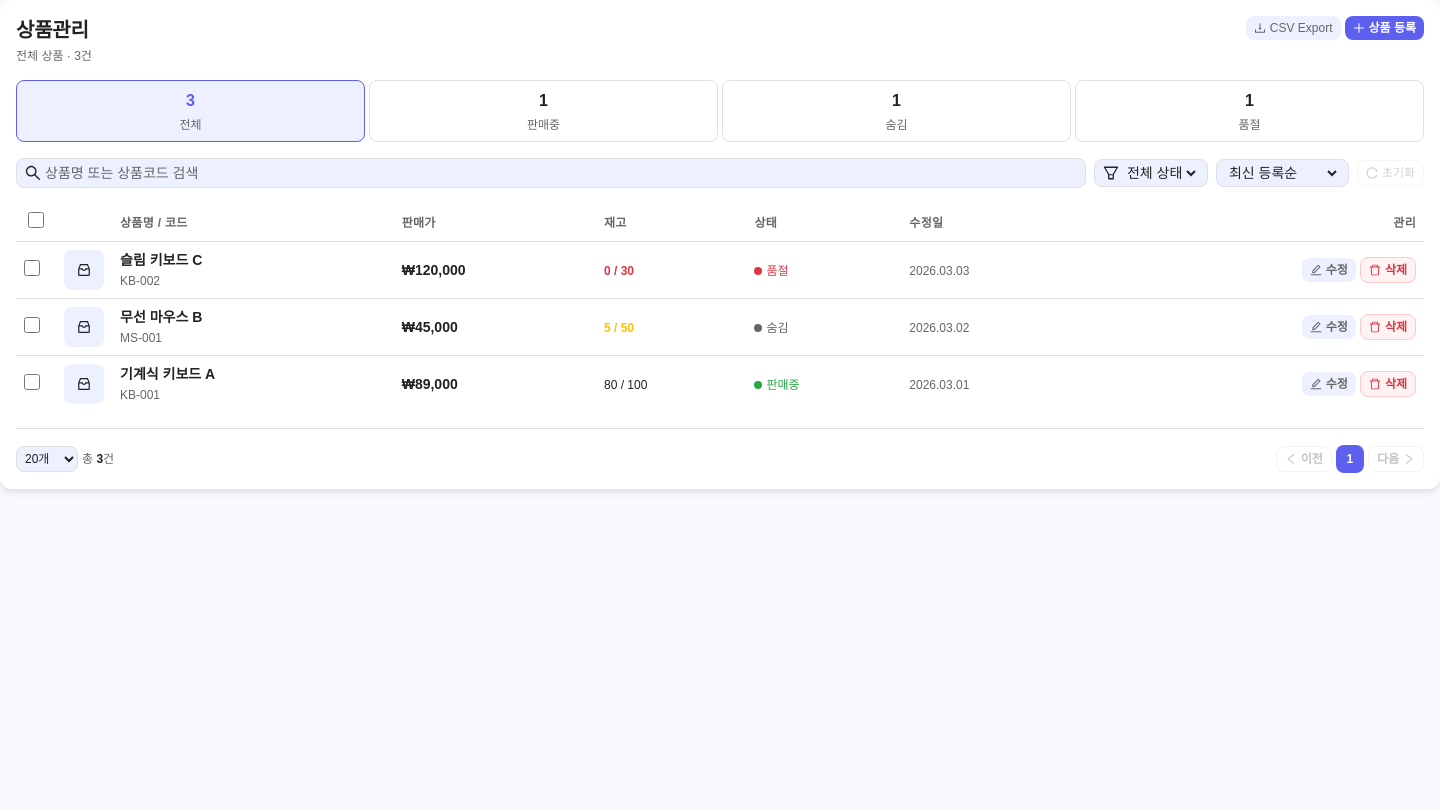
Test: 일괄 상태 변경 › 확인 모달에서 취소 클릭 시 모달이 닫힌다
Click the checkbox named "현재 페이지 전체 선택": click(36, 220) [28,212,44,228]
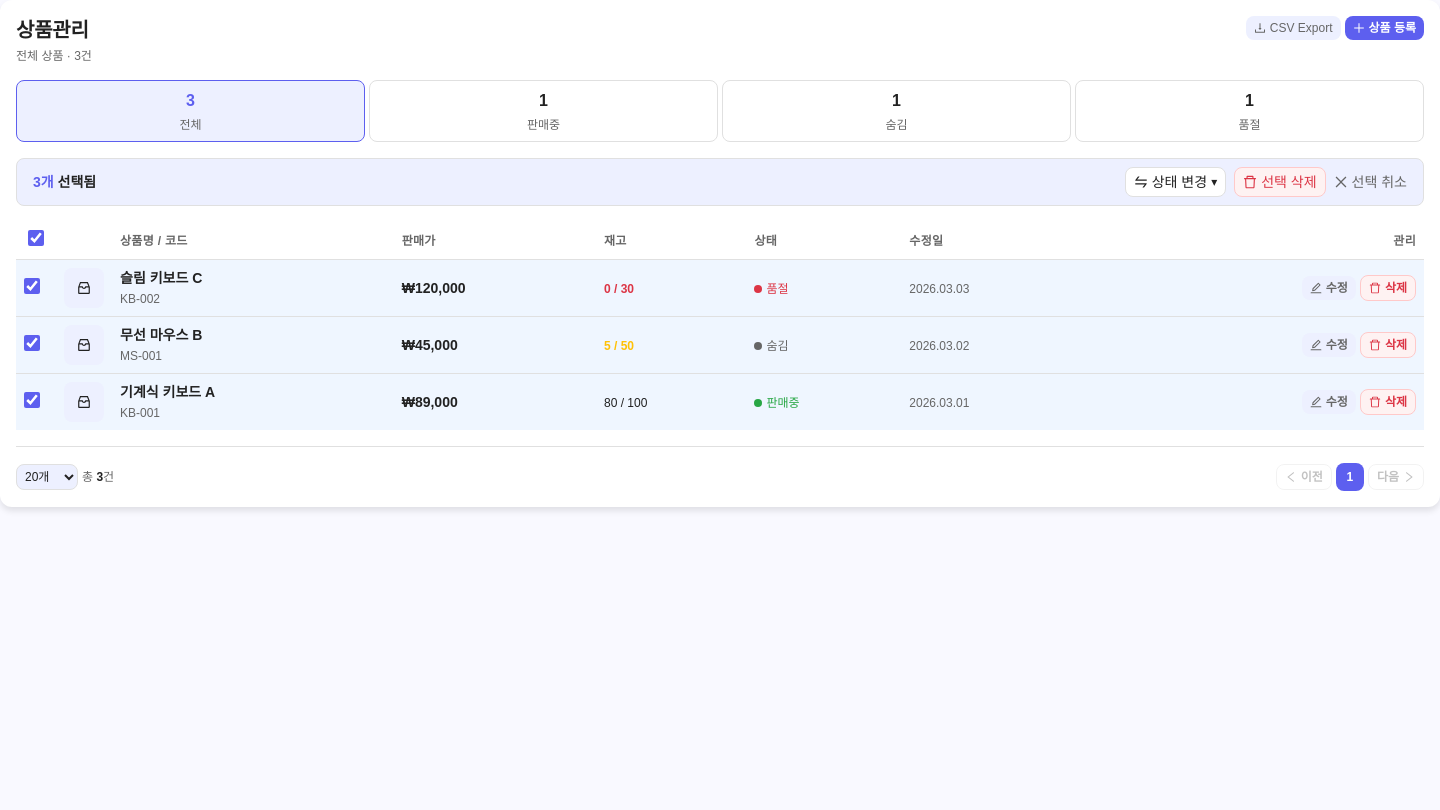
Click the button "상태 변경 ▾": click(1175, 182) [1125,167,1226,197]
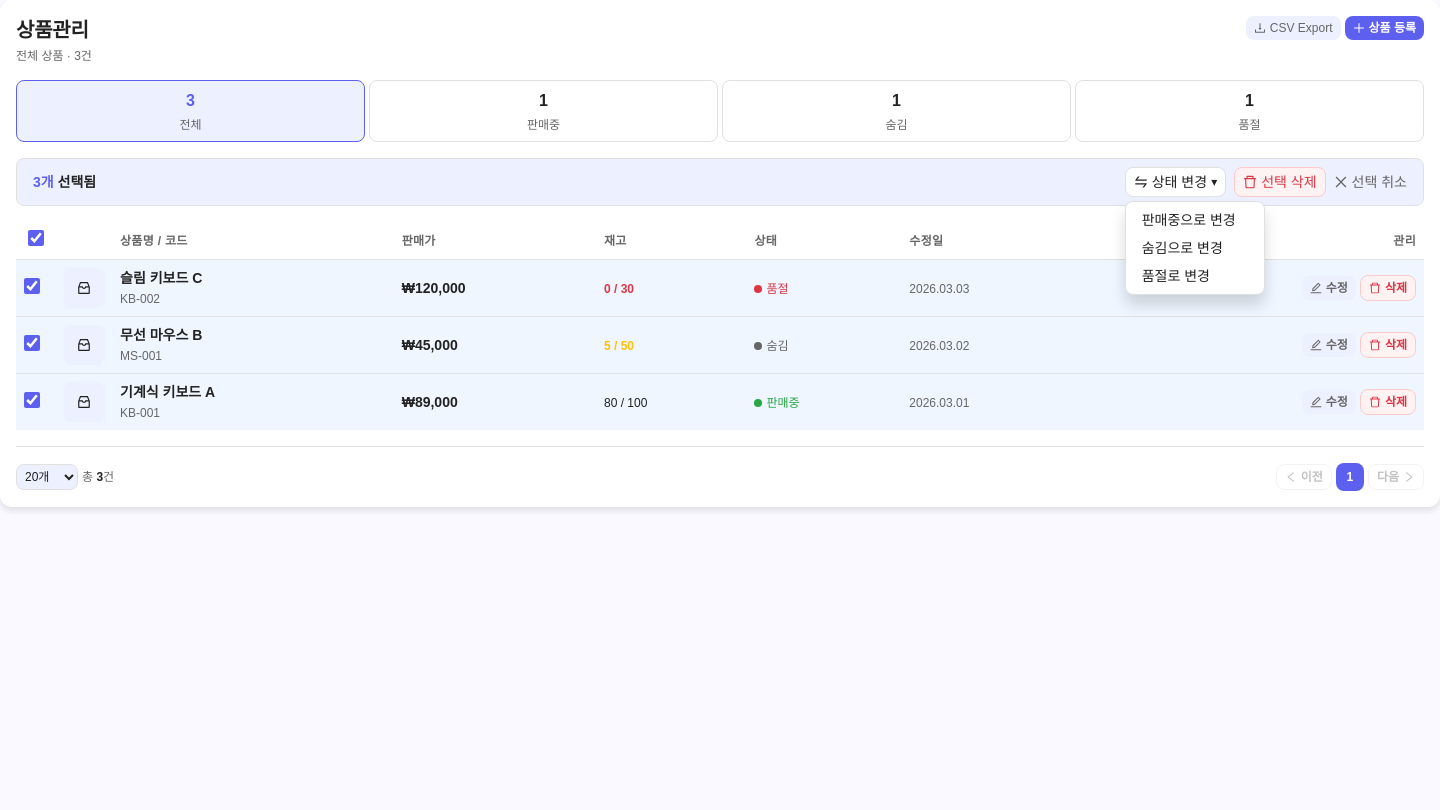
Click the menu item "판매중으로 변경": click(1195, 220) [1126,206,1264,234]
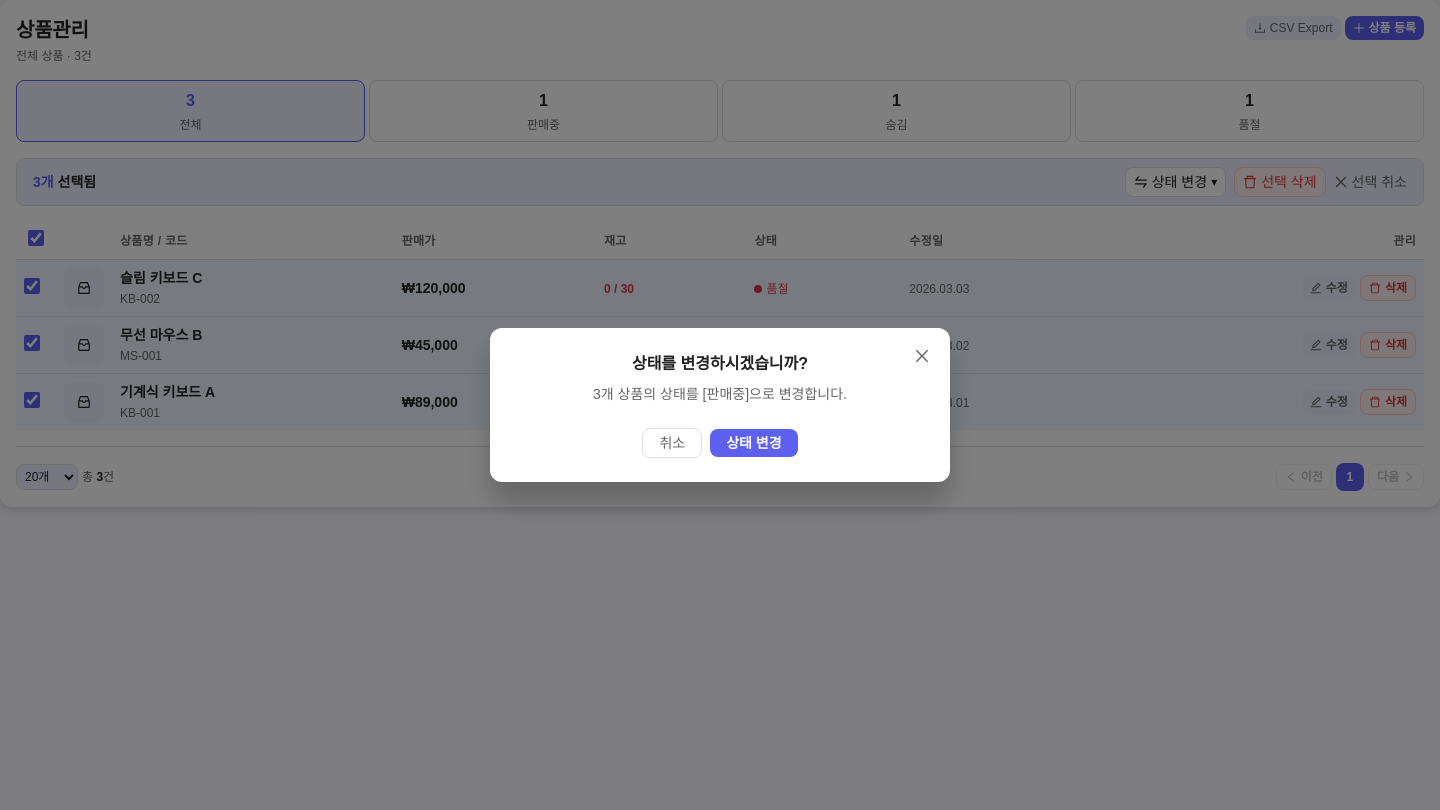
Click the button "취소": click(672, 443) [642,428,702,458]
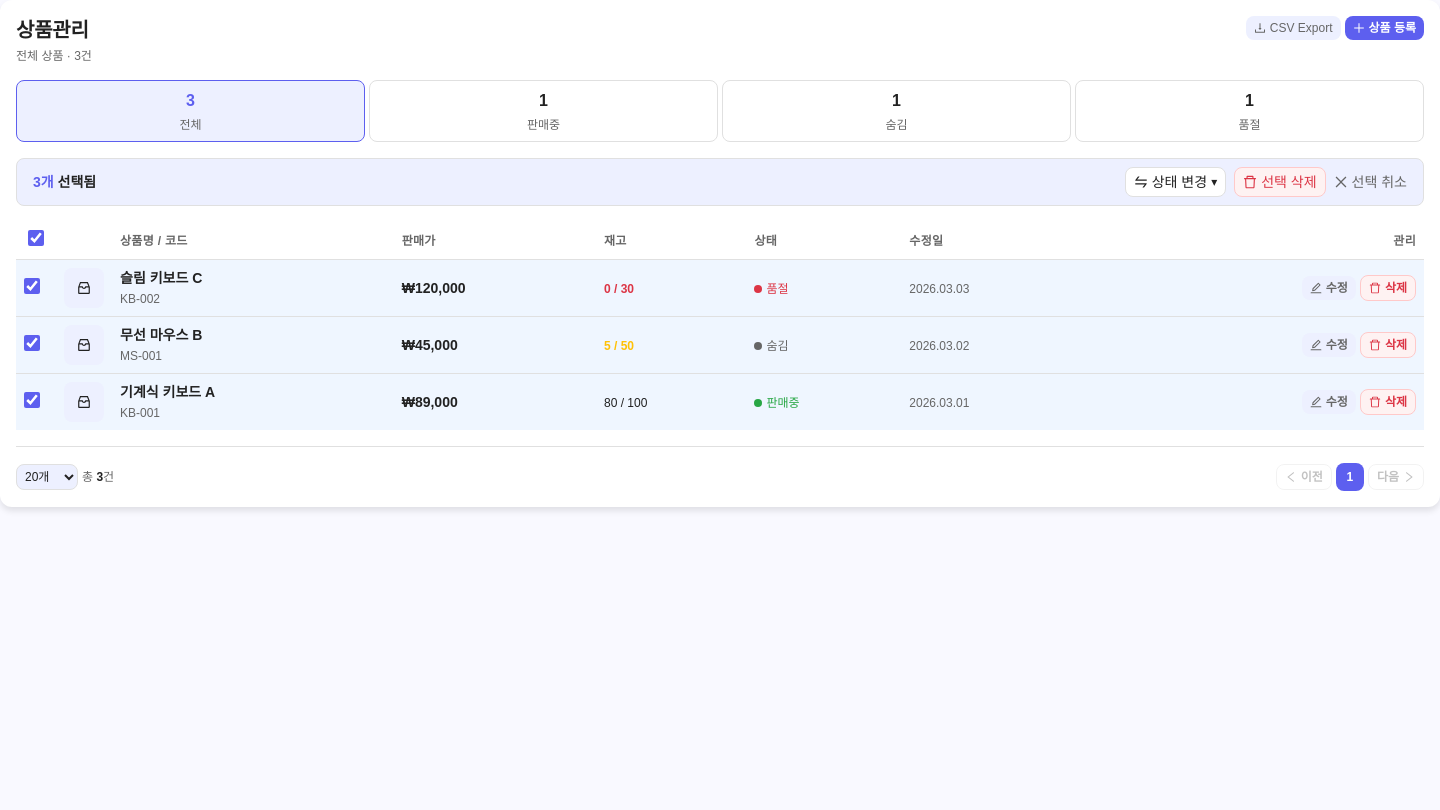
Expected: the dialog is gone
